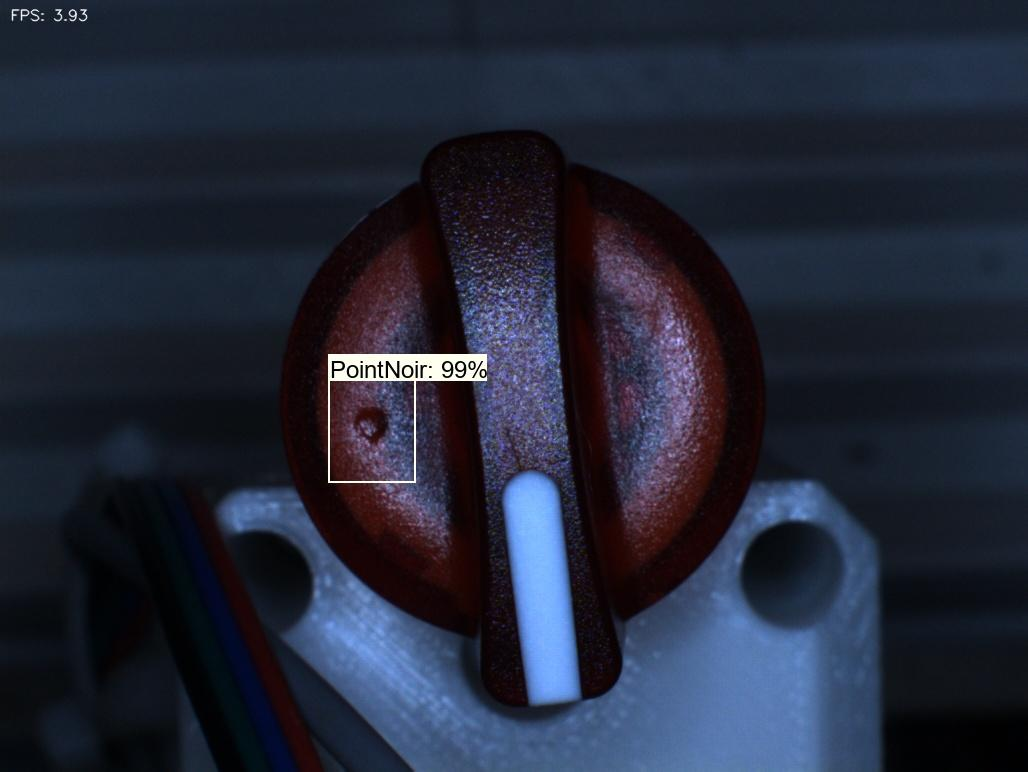Choc: (334, 388, 411, 470)
